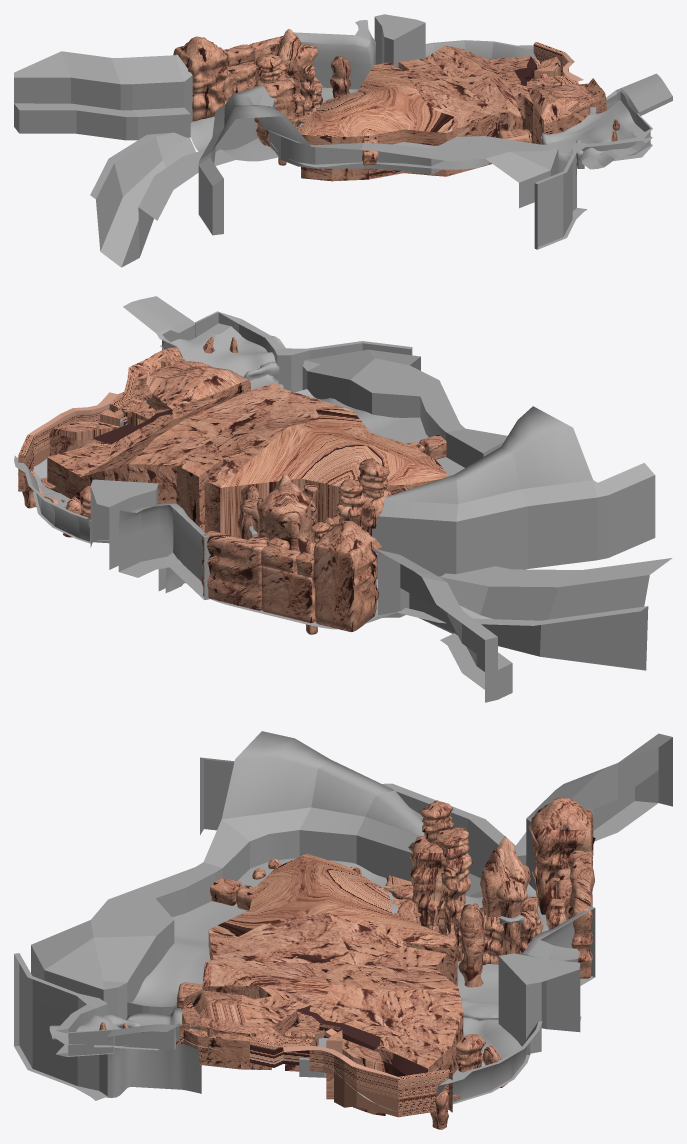
The model's file is env_level02_canyonFullV8.fbx.
3 renders of one model, top to bottom at view 1: azimuth 30°, elevation 25°; view 2: azimuth 150°, elevation 25°; view 3: azimuth 270°, elevation 25°, orthographic. The views are drawn at different scales.
Parts seen in each view (by area): view 1: polySurface2, pCube46, polySurface4, polySurface10, polySurface9, pCube76, pCube125, rockwall_a00, pCube25, pCube47, pCube64, polySurface5 (+11 smaller); view 2: polySurface2, polySurface10, polySurface4, polySurface9, pCube46, rockwall_a00, pCube25, rockwall_a03, pCube76, pCube47, pCube125, rockwall_b09 (+11 smaller); view 3: polySurface2, polySurface10, polySurface9, pCube76, pCube46, pCube47, pCube123, pCube125, rockwall_a00, polySurface4, rockwall_c03, pCube102 (+16 smaller).
Part boxes in pixels (bbox=[...]): polySurface2: bbox=[301, 42, 606, 181]; pCube46: bbox=[14, 51, 192, 140]; polySurface4: bbox=[90, 132, 235, 267]; polySurface10: bbox=[198, 84, 373, 235]; polySurface9: bbox=[371, 136, 558, 208]; pCube76: bbox=[534, 113, 652, 249]; pCube125: bbox=[541, 100, 652, 174]; rockwall_a00: bbox=[173, 36, 227, 121]; pCube25: bbox=[293, 20, 375, 89]; pCube47: bbox=[374, 14, 425, 67]; pCube64: bbox=[606, 73, 672, 123]; polySurface5: bbox=[190, 87, 358, 161]; polySurface2: bbox=[18, 347, 448, 537]; polySurface10: bbox=[372, 406, 655, 578]; polySurface4: bbox=[397, 558, 672, 670]; polySurface9: bbox=[302, 349, 459, 437]; pCube46: bbox=[371, 548, 512, 702]; rockwall_a00: bbox=[312, 520, 381, 631]; pCube25: bbox=[118, 503, 210, 599]; rockwall_a03: bbox=[201, 531, 267, 610]; pCube76: bbox=[194, 311, 412, 392]; pCube47: bbox=[90, 479, 158, 569]; pCube125: bbox=[160, 323, 285, 390]; rockwall_b09: bbox=[256, 473, 312, 553]; polySurface2: bbox=[176, 853, 463, 1117]; polySurface10: bbox=[196, 731, 424, 881]; polySurface9: bbox=[31, 867, 214, 1019]; pCube76: bbox=[14, 953, 114, 1100]; pCube46: bbox=[514, 733, 672, 890]; pCube47: bbox=[498, 953, 580, 1053]; pCube123: bbox=[127, 858, 398, 1016]; pCube125: bbox=[49, 1008, 201, 1097]; rockwall_a00: bbox=[528, 797, 595, 914]; polySurface4: bbox=[382, 783, 515, 897]; rockwall_c03: bbox=[408, 836, 447, 933]; pCube102: bbox=[436, 1021, 542, 1104].
Size of the model in its own units: 60924 by 17796 by 50583.
